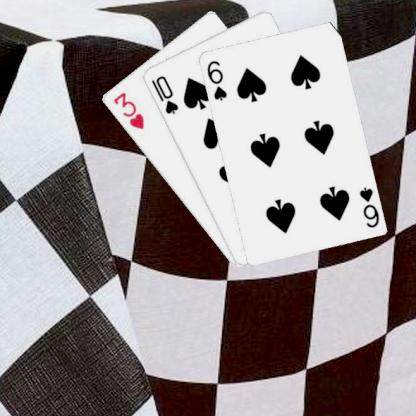10S: (148, 72, 179, 116)
3H: (110, 89, 145, 131)
6S: (204, 57, 228, 102), (356, 184, 380, 229)
